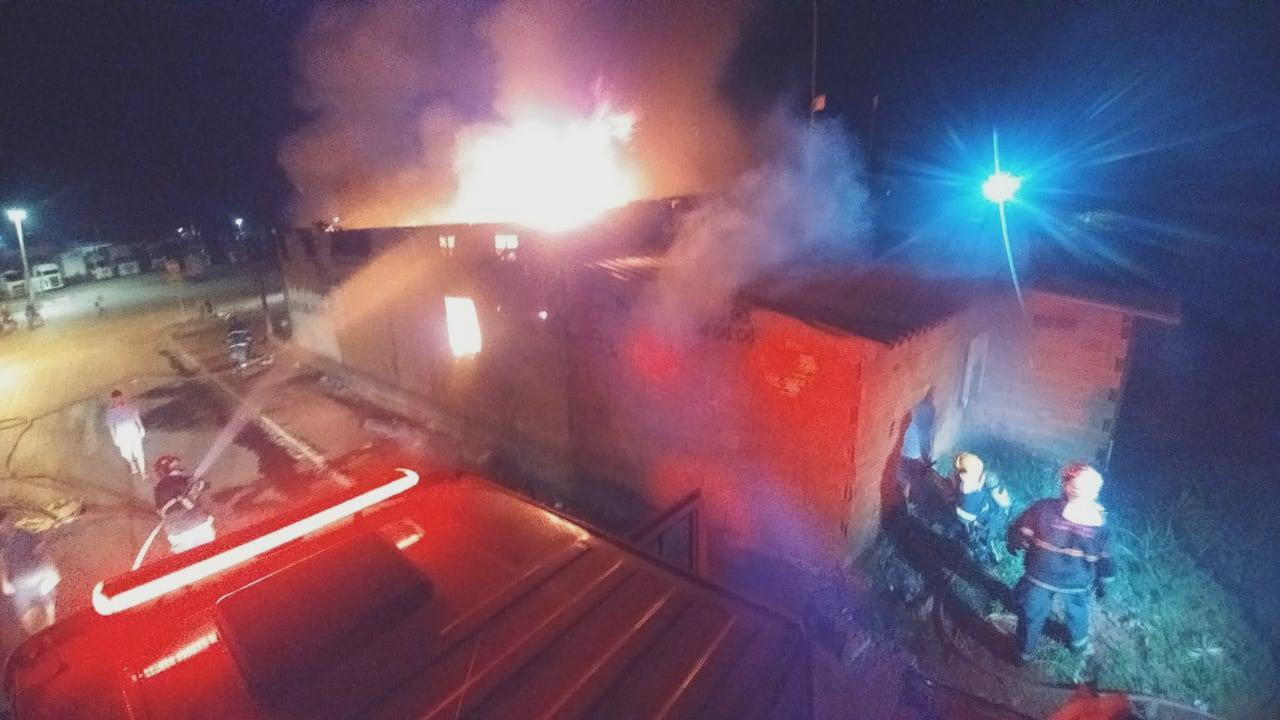Fire: (385, 105, 649, 228)
